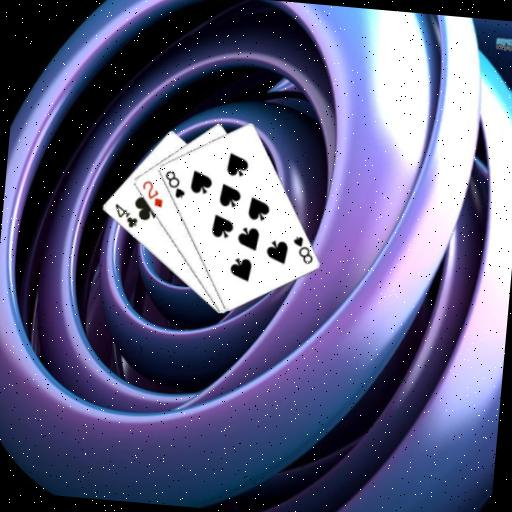2D: (137, 177, 166, 210)
4C: (110, 201, 141, 230)
8S: (287, 233, 316, 267), (160, 167, 188, 201)
